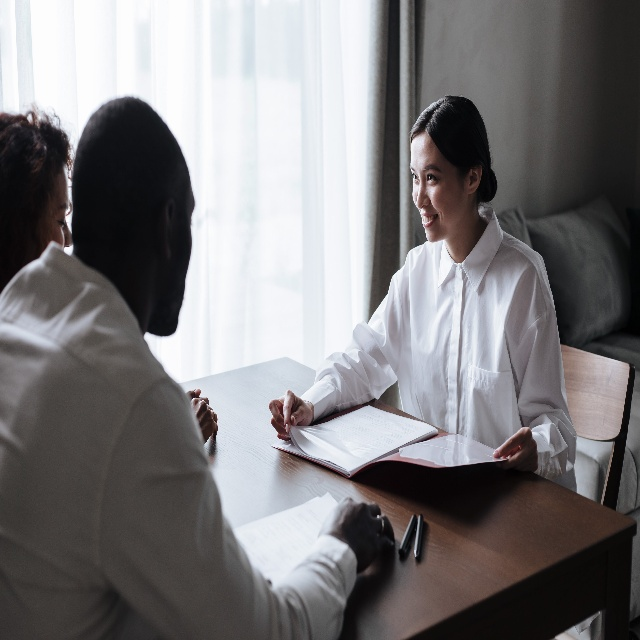Sin_guantes: (317, 490, 397, 574), (267, 386, 314, 445), (493, 424, 541, 477), (189, 393, 218, 449), (185, 388, 202, 400)
